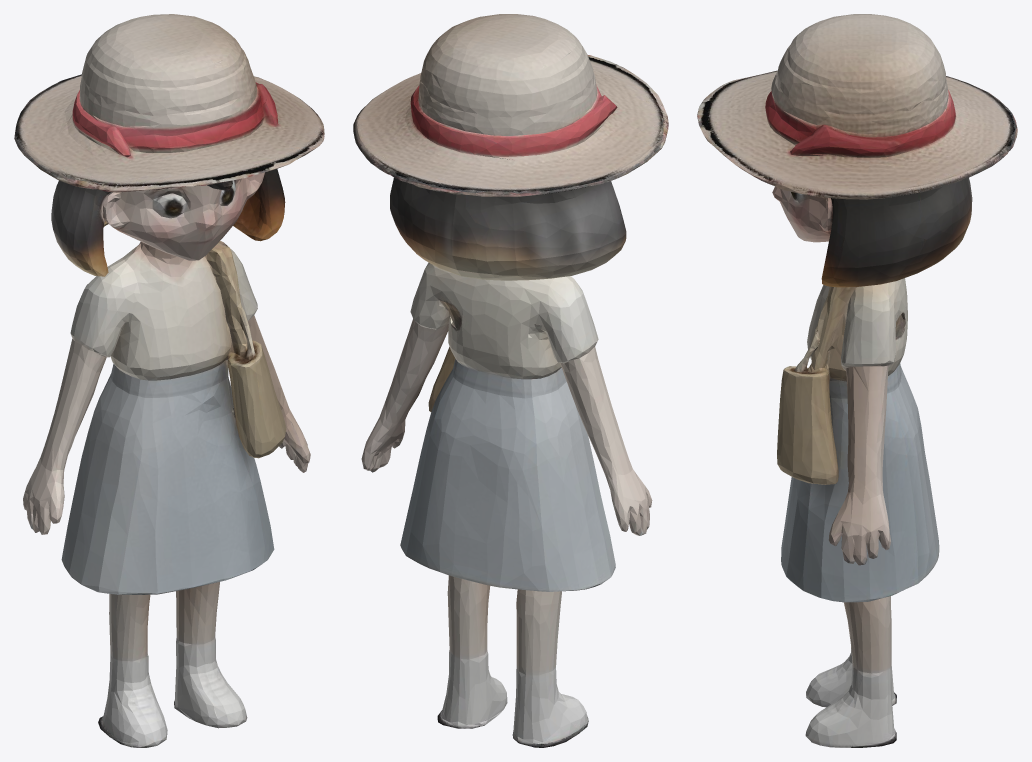
The model's file is hero.glb.
The picture shows the model from 3 angles, left to right: view 1: azimuth 30°, elevation 25°; view 2: azimuth 150°, elevation 25°; view 3: azimuth 270°, elevation 25°; orthographic projection.
Parts seen in each view (by area): view 1: world; view 2: world; view 3: world.
Part boxes in pixels (x1,y1,x2,y2): world: [14, 14, 324, 747]; world: [353, 14, 668, 747]; world: [697, 14, 1017, 747].
Size of the model in its own units: 0.4167 by 0.9993 by 0.4245.
1 material, 1 textured.
